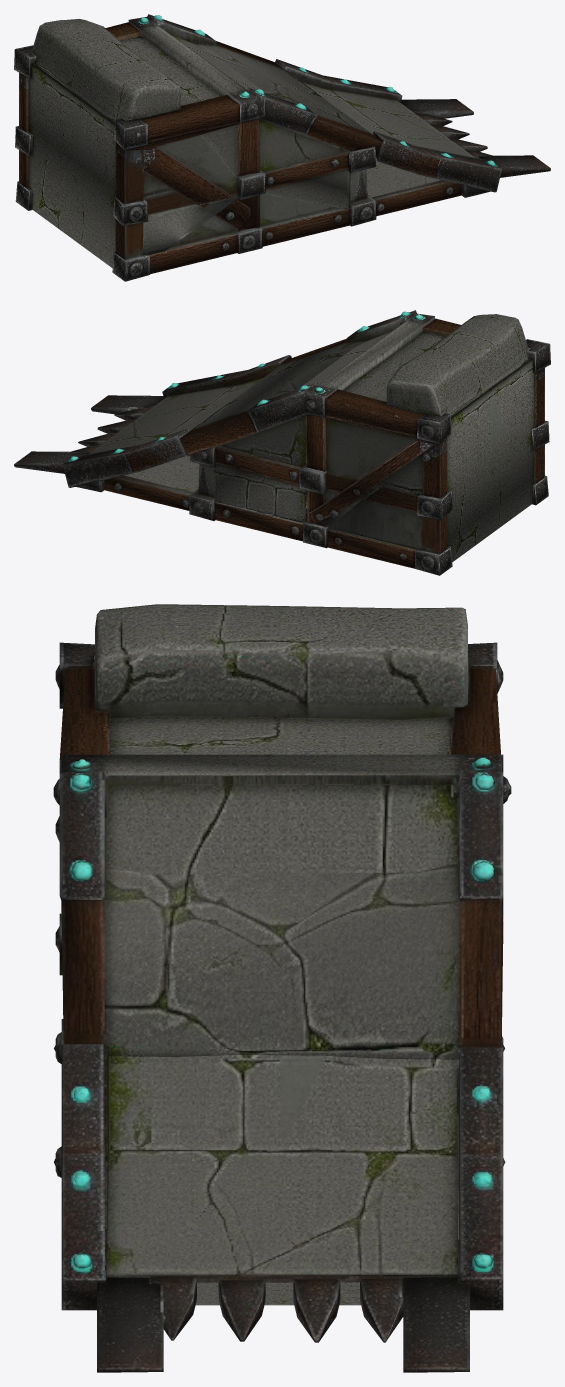
Rendered from tripo_convert_76026aaf-d753-4245-97b6-bf6d05ffc2d4.fbx.
The picture shows the model from 3 angles, top to bottom: view 1: azimuth 30°, elevation 25°; view 2: azimuth 150°, elevation 25°; view 3: azimuth 270°, elevation 25°; orthographic projection. The views are drawn at different scales.
Visible parts, largest first — view 1: tripo_node_76026aaf; view 2: tripo_node_76026aaf; view 3: tripo_node_76026aaf.
Boxes of the visible parts, x1,y1,x2,y2 form: tripo_node_76026aaf: (14, 14, 550, 281); tripo_node_76026aaf: (14, 310, 550, 575); tripo_node_76026aaf: (53, 604, 511, 1372).
Bounding box in the file's own units: 0.998 × 0.4004 × 0.4551.
1 material, 1 textured.
